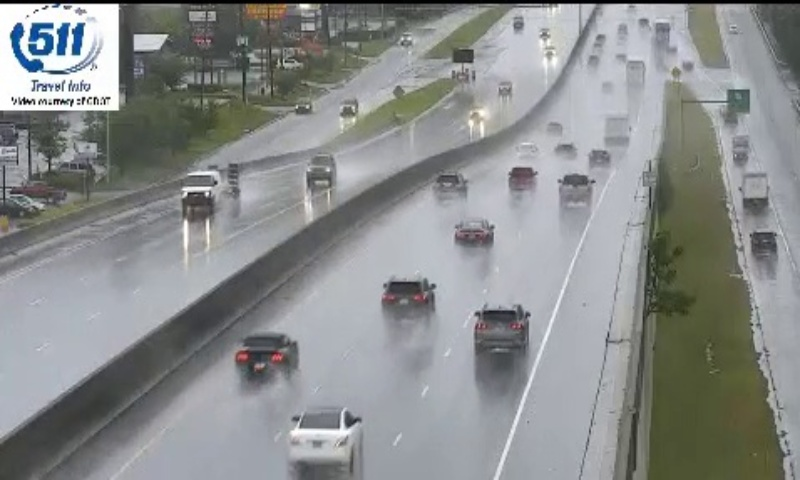car: (287, 405, 363, 466), (475, 302, 528, 354), (234, 333, 296, 375), (381, 274, 433, 318), (456, 219, 493, 245), (558, 175, 592, 203), (435, 171, 466, 198), (508, 165, 535, 190)
